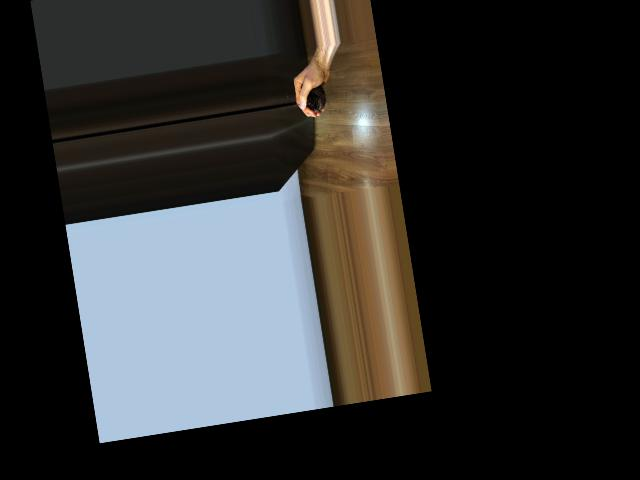beet: (285, 84, 328, 117)
